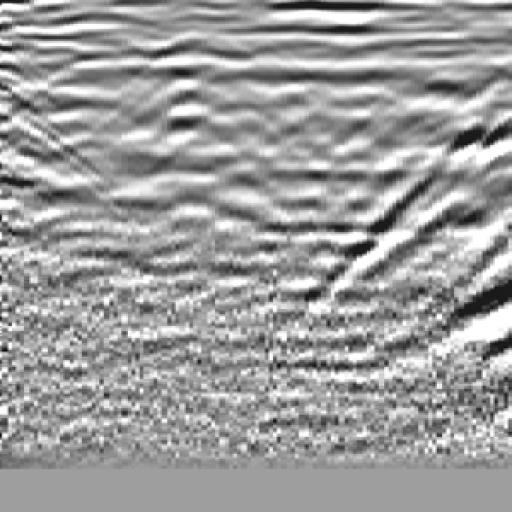metalic: (96, 26, 273, 231)
nonmetalic: (397, 30, 512, 263)
